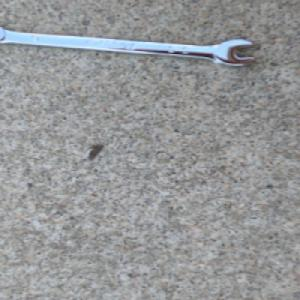Wrench: (0, 24, 257, 68)
